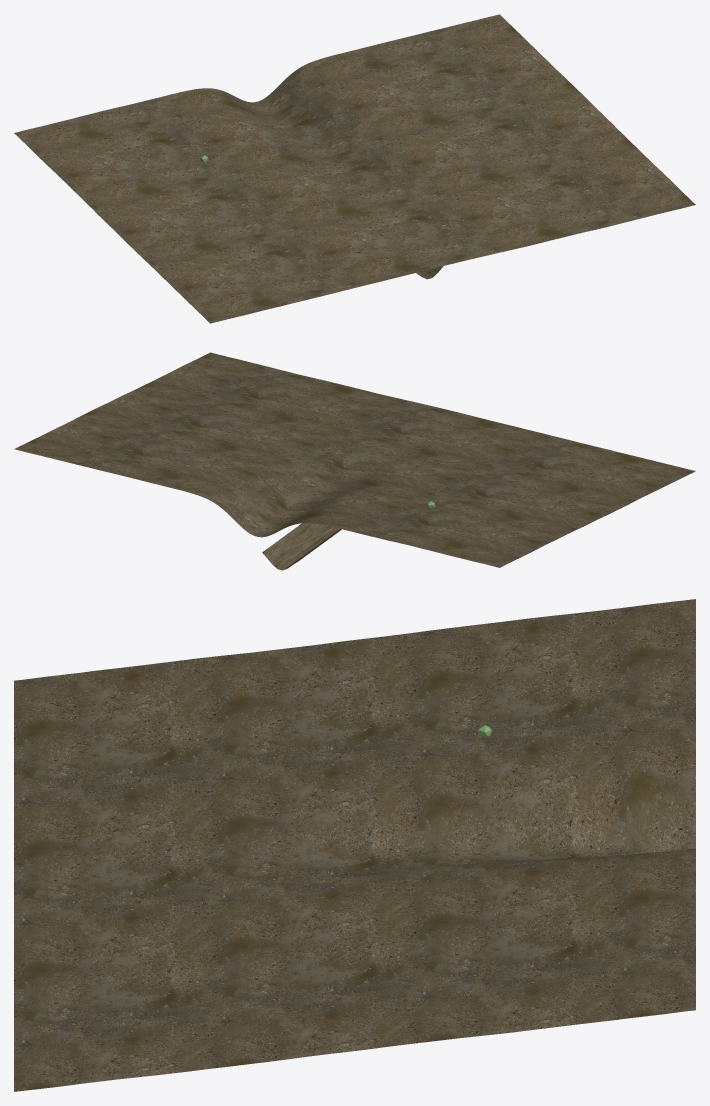
File: soil-erosion.glb
The picture shows the model from 3 angles, top to bottom: view 1: azimuth 30°, elevation 25°; view 2: azimuth 150°, elevation 25°; view 3: azimuth 270°, elevation 25°; orthographic projection. The views are drawn at different scales.
Parts seen in each view (by area): view 1: Erosion_Slope; view 2: Erosion_Slope, Erosion_Gully; view 3: Erosion_Slope.
Part boxes in pixels (<box>): Erosion_Slope: <box>14,14,695,323</box>; Erosion_Slope: <box>14,352,695,567</box>; Erosion_Gully: <box>262,523,341,570</box>; Erosion_Slope: <box>14,599,695,1091</box>.
Size of the model in its own units: 6 by 0.9303 by 4.2.
Materials: 3 (2 with a texture image).
